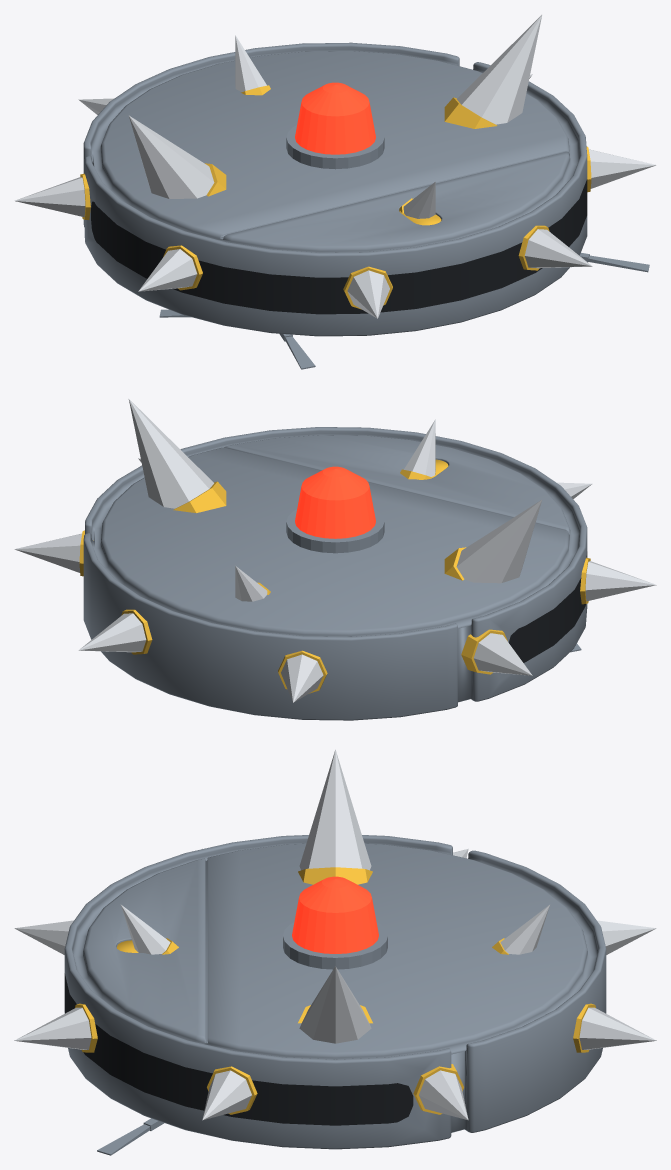
Rendered from lab_spiked_vacuum.gltf.
3 renders of one model, top to bottom at view 1: azimuth 30°, elevation 25°; view 2: azimuth 150°, elevation 25°; view 3: azimuth 270°, elevation 25°, orthographic. The views are drawn at different scales.
Visible parts, largest first — view 1: body_2, Hazard_spikes, brush1_5, brush2_6; view 2: body_2, Hazard_spikes; view 3: body_2, Hazard_spikes, brush2_6.
Part boxes in pixels (left/top/right/bottom): body_2: left=83, top=42, right=587, bottom=336; Hazard_spikes: left=14, top=15, right=656, bottom=318; brush1_5: left=159, top=309, right=315, bottom=369; brush2_6: left=579, top=252, right=649, bottom=272; body_2: left=83, top=427, right=587, bottom=720; Hazard_spikes: left=14, top=399, right=656, bottom=702; body_2: left=64, top=835, right=606, bottom=1149; Hazard_spikes: left=14, top=749, right=656, bottom=1120; brush2_6: left=97, top=1118, right=164, bottom=1155.
Size of the model in its own units: 1.04 by 0.3398 by 1.04.
